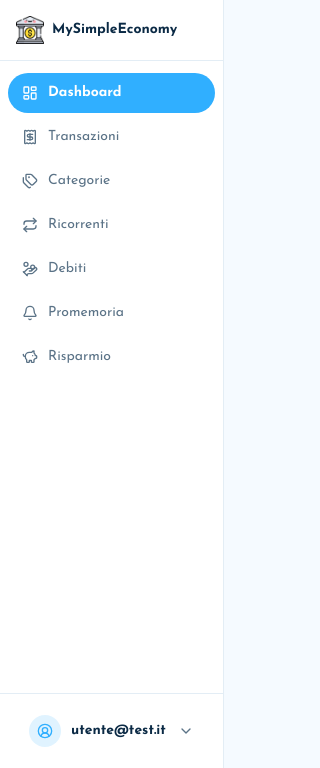
Scenario: Layout › il menu del profilo si chiude con Escape
Click the button "utente@test.it" at (112, 731), box [16, 706, 207, 756]
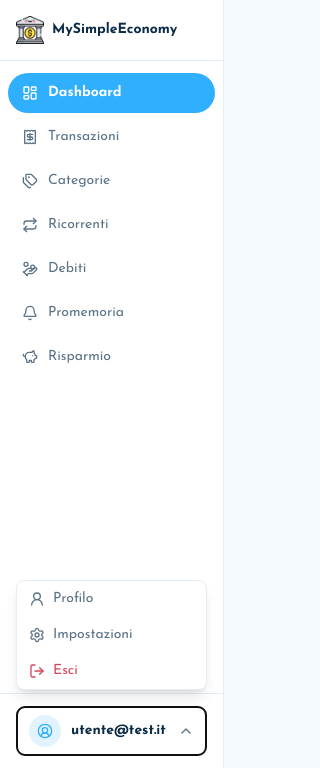
Press Escape
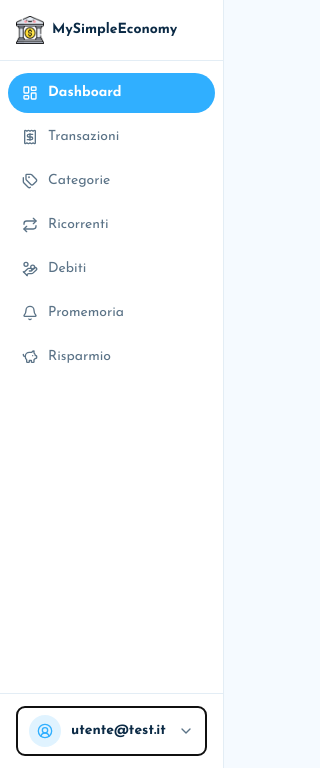
Check: the button "Esci" is gone
